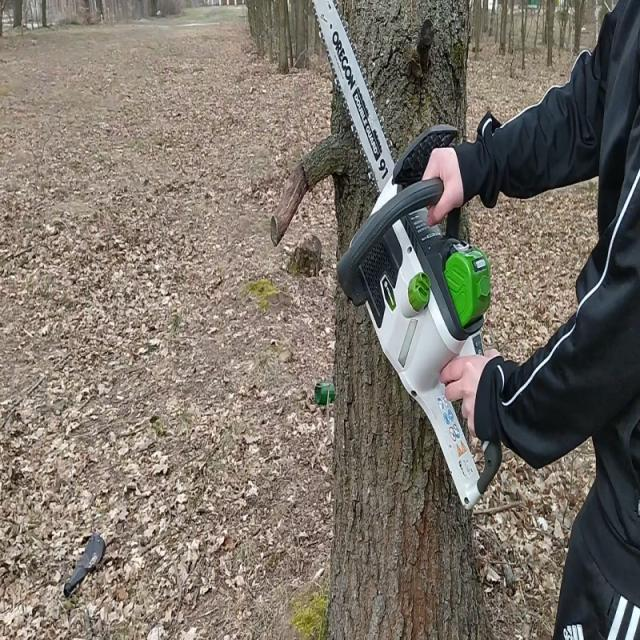Chainsaw: (302, 0, 508, 512)
